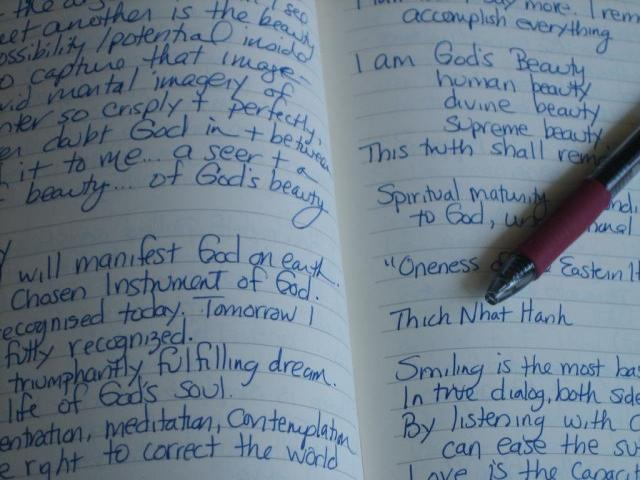PEN: (465, 96, 640, 326)
